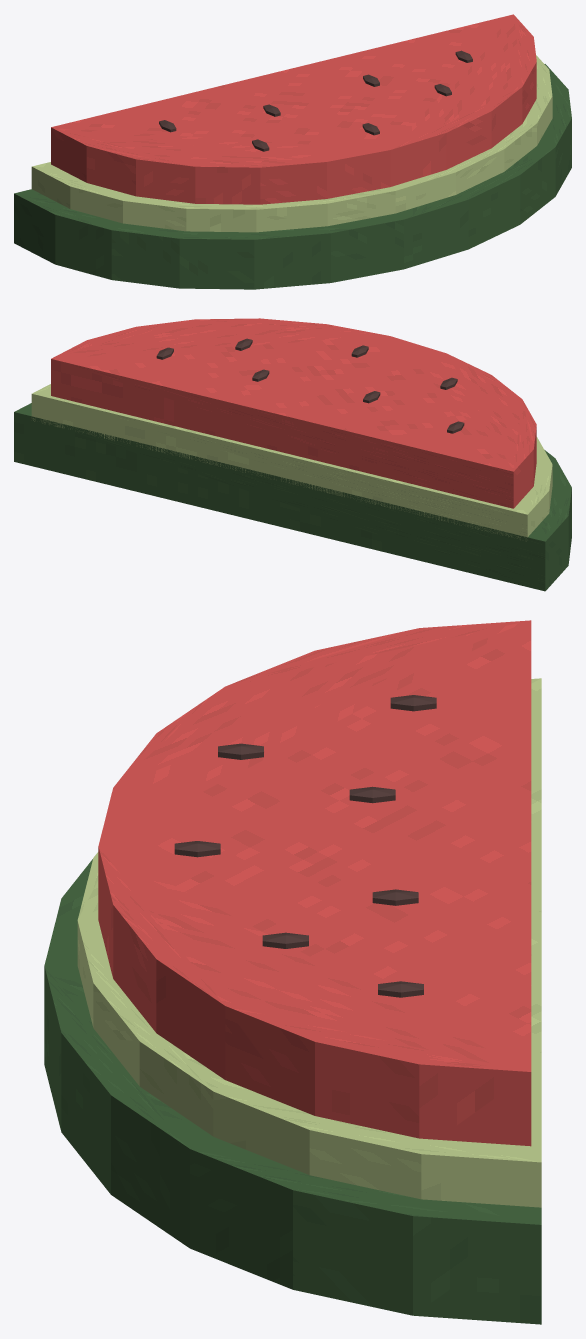
File: watermelon_wedge.glb
The picture shows the model from 3 angles, top to bottom: view 1: azimuth 30°, elevation 25°; view 2: azimuth 150°, elevation 25°; view 3: azimuth 270°, elevation 25°; orthographic projection. The views are drawn at different scales.
Parts seen in each view (by area): view 1: block_red watermelon flesh, block_striped green rind, block_thin pale rind edge; view 2: block_red watermelon flesh, block_striped green rind, block_thin pale rind edge; view 3: block_red watermelon flesh, block_striped green rind, block_thin pale rind edge.
Part boxes in pixels (box(x1,y1,x2,y2)): block_red watermelon flesh: box(51, 14, 536, 204); block_striped green rind: box(14, 64, 571, 289); block_thin pale rind edge: box(31, 55, 552, 232); block_red watermelon flesh: box(51, 318, 536, 508); block_striped green rind: box(14, 403, 571, 591); block_thin pale rind edge: box(31, 384, 552, 541); block_red watermelon flesh: box(98, 620, 531, 1146); block_striped green rind: box(44, 859, 541, 1324); block_thin pale rind edge: box(77, 678, 541, 1207).
Size of the model in its own units: 0.19 by 0.0388 by 0.077.
Materials: 1 (1 with a texture image).
